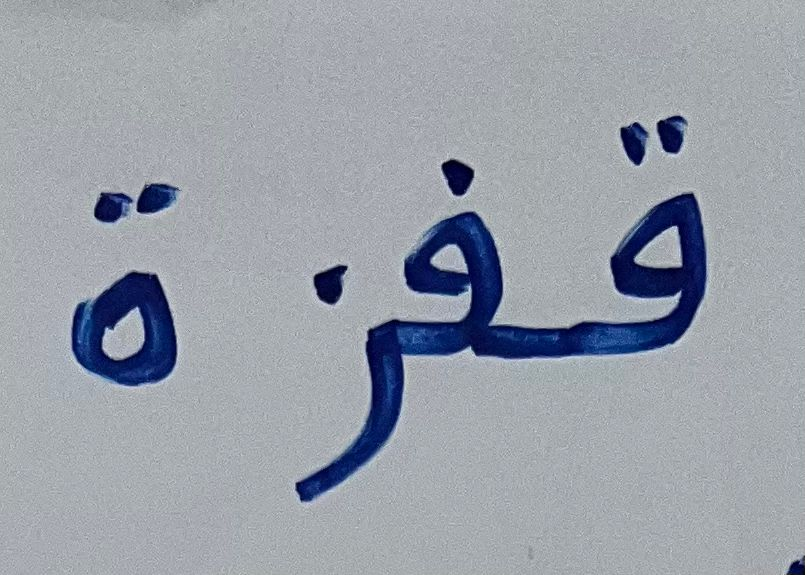khah: (404, 131, 538, 371)
noon: (291, 251, 401, 515)
qaf: (543, 85, 731, 376)
teh_marbota: (60, 157, 210, 402)
